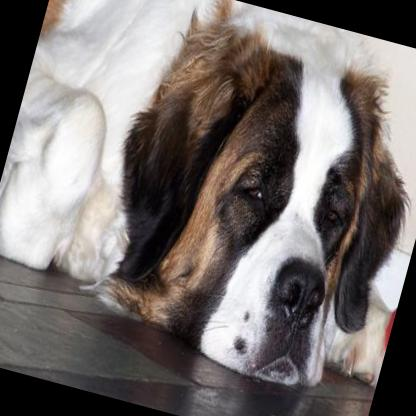Saint_Bernard: (0, 0, 416, 405)
